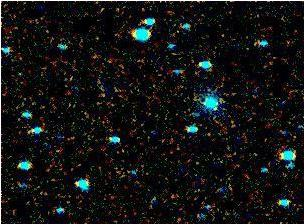star: (201, 91, 231, 121)
